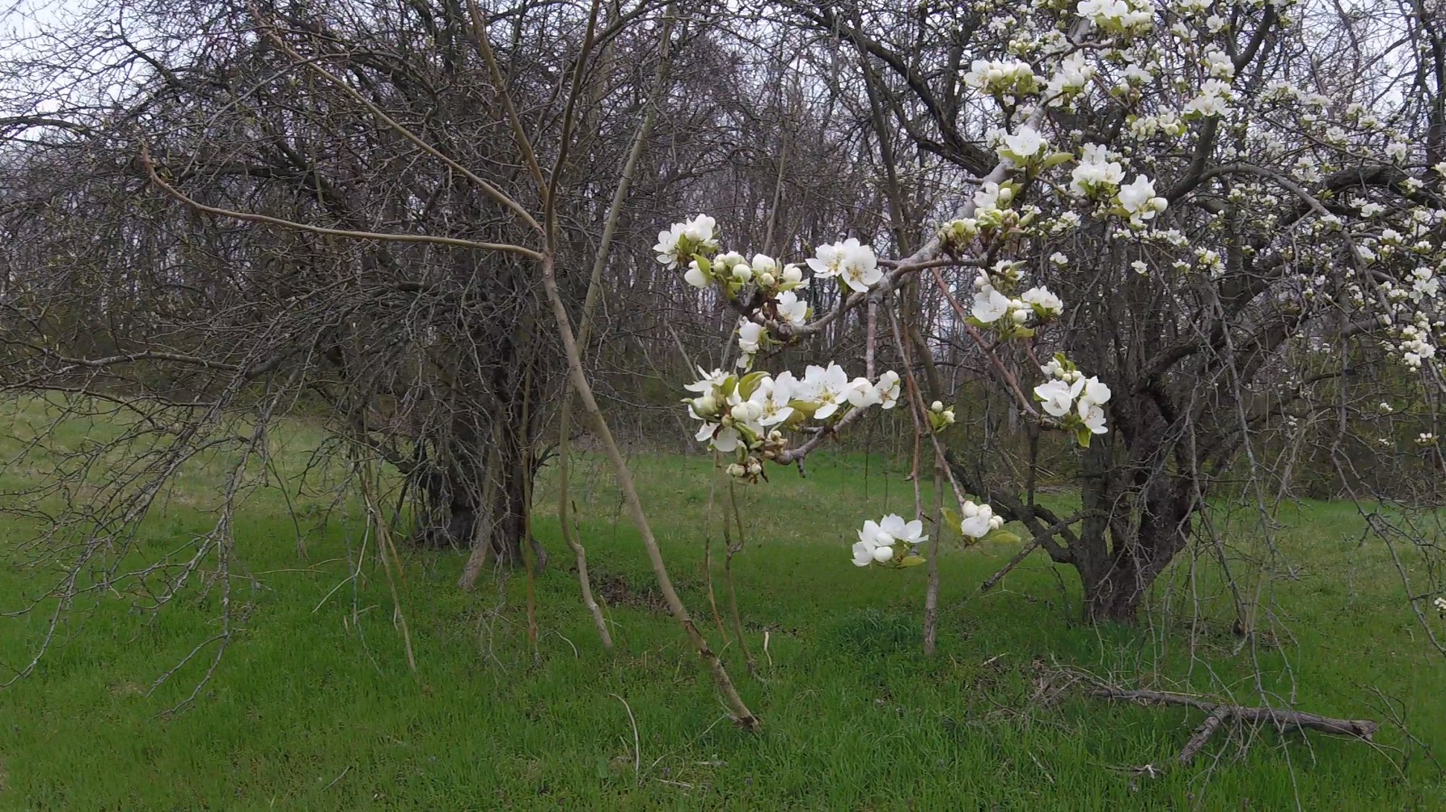flower: (727, 361, 901, 439), (1127, 79, 1244, 142), (959, 49, 1098, 98), (970, 267, 1064, 323), (1034, 370, 1111, 434), (805, 238, 884, 296), (1053, 143, 1126, 200), (710, 251, 811, 292), (852, 514, 929, 566), (653, 214, 719, 270), (1118, 174, 1168, 229), (1254, 79, 1334, 111), (1074, 0, 1165, 28), (1113, 47, 1161, 86), (1000, 124, 1048, 159), (737, 317, 766, 373), (695, 422, 747, 452), (961, 501, 1004, 537), (684, 365, 729, 399), (1399, 326, 1436, 367), (973, 182, 1011, 220), (1201, 41, 1235, 78), (775, 290, 808, 328), (1409, 267, 1440, 304), (1291, 154, 1325, 183), (1385, 128, 1411, 165), (685, 261, 709, 294), (1349, 198, 1386, 218), (1156, 228, 1191, 247), (1171, 0, 1214, 13), (1325, 126, 1352, 145), (1207, 13, 1230, 33), (1040, 358, 1063, 377), (1346, 99, 1368, 117), (1113, 228, 1139, 243), (1378, 229, 1404, 244), (1060, 211, 1082, 228), (991, 260, 1019, 273), (1404, 177, 1427, 192), (1320, 215, 1344, 229), (1048, 93, 1070, 107), (1170, 22, 1189, 38), (1357, 247, 1377, 261), (1050, 252, 1069, 265), (1131, 261, 1148, 274), (1432, 163, 1446, 178), (1205, 250, 1220, 264), (1419, 225, 1431, 238), (932, 401, 944, 411), (1434, 210, 1446, 219), (1046, 135, 1050, 138)
